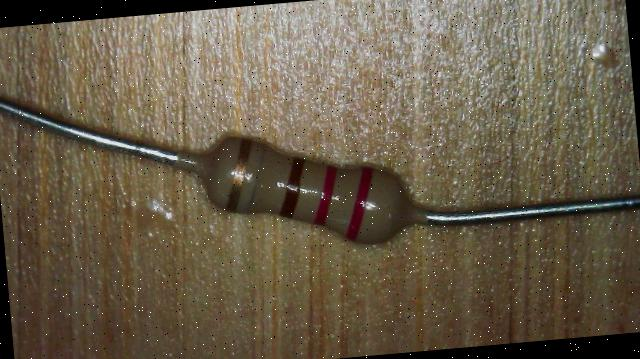brown: (274, 157, 310, 218)
gold: (220, 138, 256, 212)
red: (341, 166, 378, 240), (310, 165, 341, 225)
resistor: (174, 105, 424, 269)
